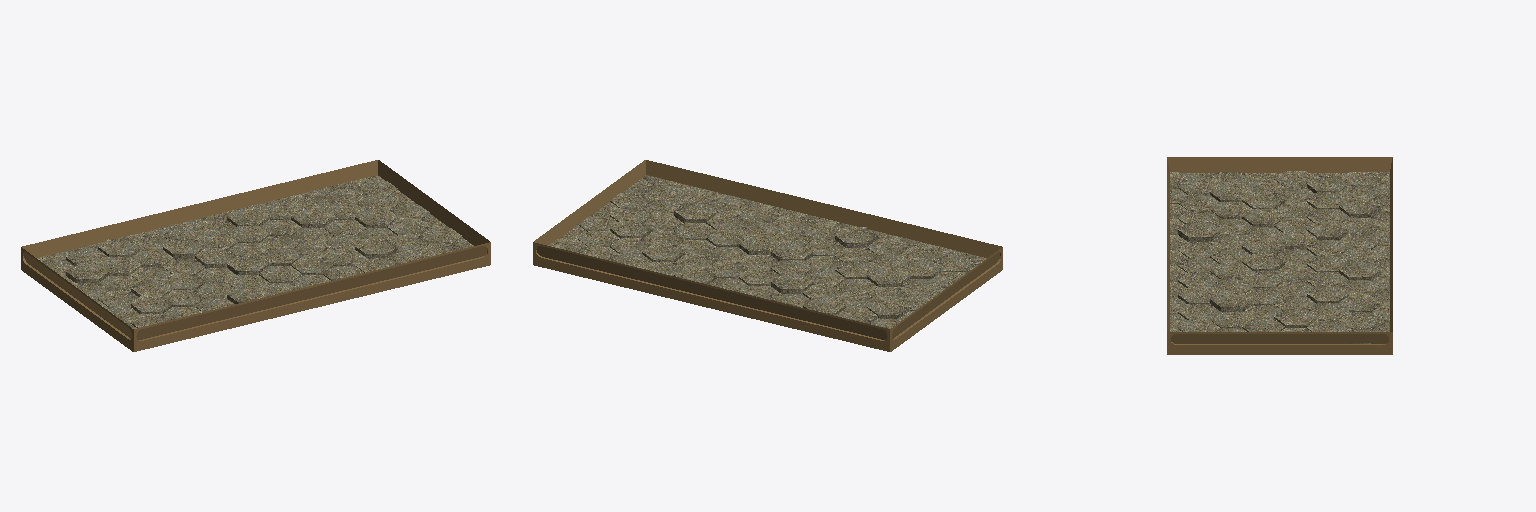
The picture shows the model from 3 angles: view 1: azimuth 30°, elevation 25°; view 2: azimuth 150°, elevation 25°; view 3: azimuth 270°, elevation 25°; orthographic projection.
Parts seen in each view (by area): view 1: hex.000_Circle.000, walls_wall1_walls_Cube.002_Cube.002_Material_wall1_walls_Cube.00; view 2: hex.000_Circle.000, walls_wall1_walls_Cube.002_Cube.002_Material_wall1_walls_Cube.00; view 3: hex.000_Circle.000, walls_wall1_walls_Cube.002_Cube.002_Material_wall1_walls_Cube.00.
Part boxes in pixels (x1,y1,x2,y2): hex.000_Circle.000: (37, 175, 473, 328); walls_wall1_walls_Cube.002_Cube.002_Material_wall1_walls_Cube.00: (21, 160, 490, 351); hex.000_Circle.000: (548, 175, 986, 330); walls_wall1_walls_Cube.002_Cube.002_Material_wall1_walls_Cube.00: (533, 160, 1002, 351); hex.000_Circle.000: (1170, 171, 1389, 343); walls_wall1_walls_Cube.002_Cube.002_Material_wall1_walls_Cube.00: (1167, 157, 1392, 354).
Bounding box in the file's own units: 26.4 × 1.63 × 14.4.
Materials: 2 (1 with a texture image).